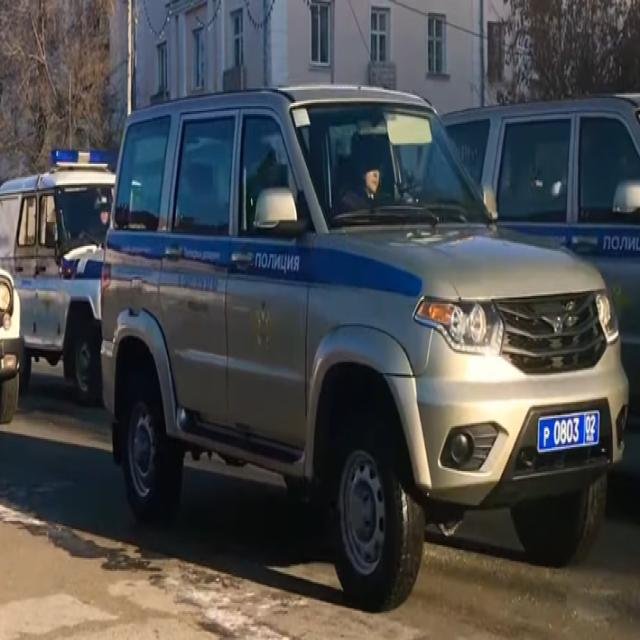police car: (104, 88, 629, 622), (2, 144, 125, 408)
